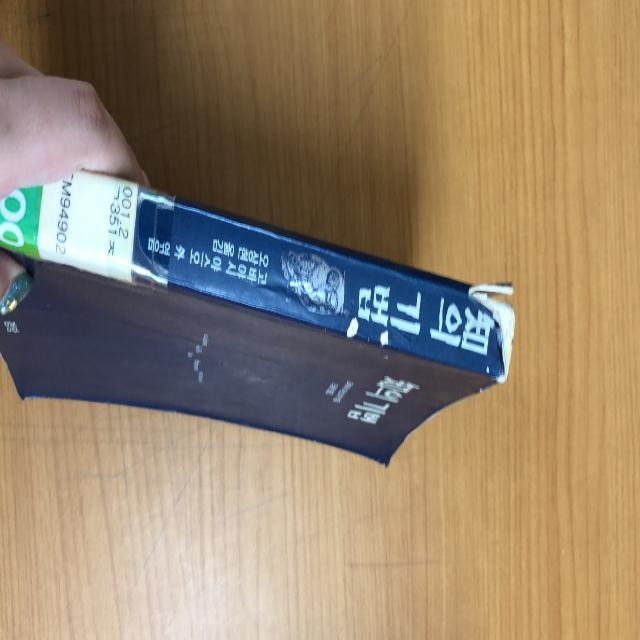Ripped: (466, 276, 528, 400)
Wornout: (339, 310, 395, 356)
